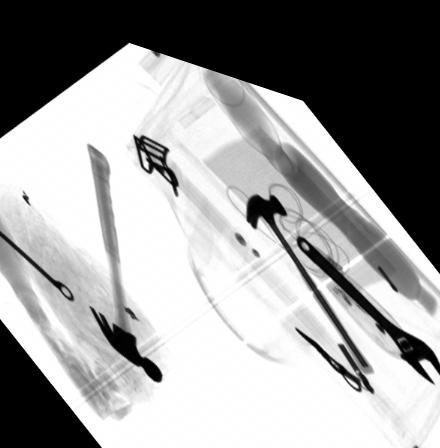Hammer: (245, 176, 376, 350), (85, 135, 162, 370)
Wrench: (294, 216, 440, 359), (0, 231, 75, 298)
